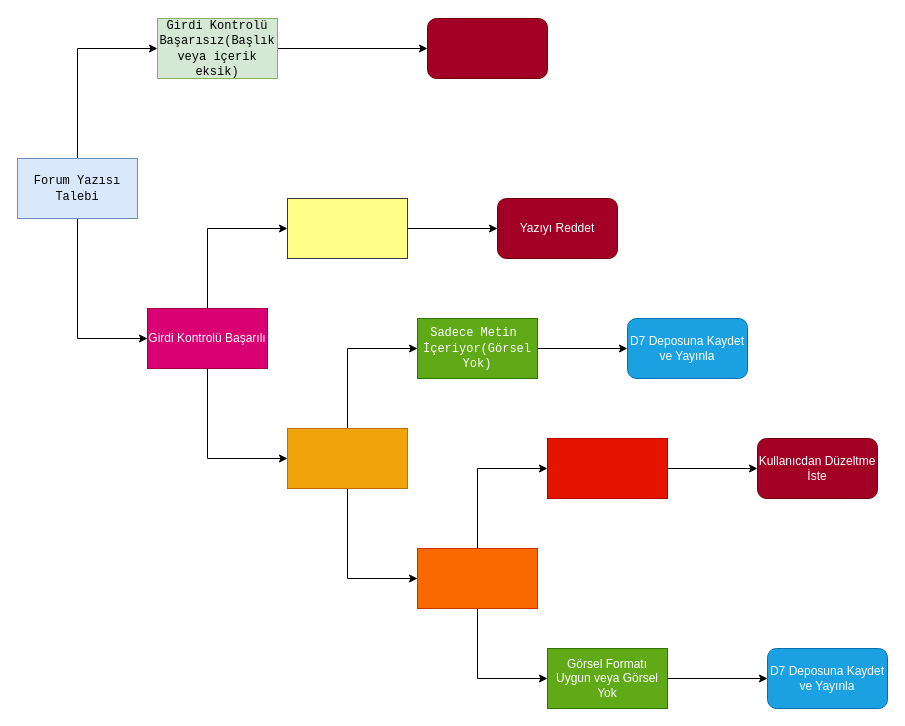
The diagram is 905 pixels wide and 726 high, and some of its shapes have lost their labels. Here are the shapes that lost their labels. From the top down, the centre of each, then its label:
point (487, 48): Hata Mesajı Döndür ve İptal Et
point (347, 228): Yasaklı Kelime Spam Tespit Edildi
point (347, 458): Sistem Filtresinden Geçti
point (607, 468): Görsel Formatı Boyutu Hatalı
point (477, 578): Görsel(Medya ) İçeriyor
